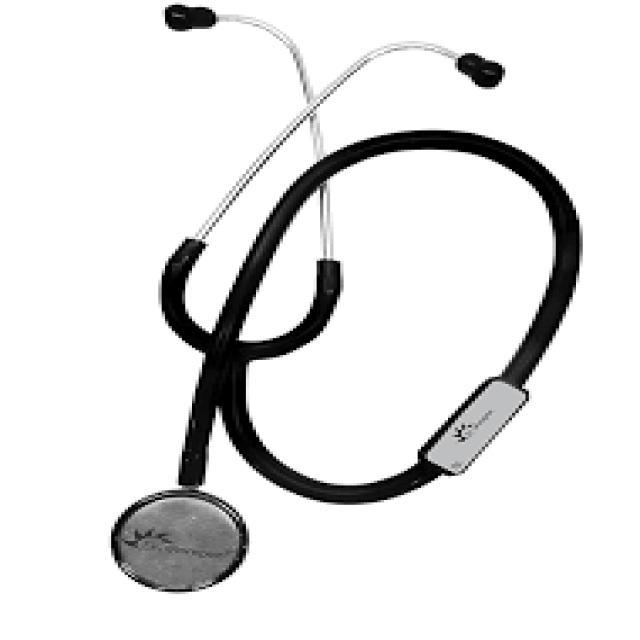stethoscope: (84, 3, 572, 605)
